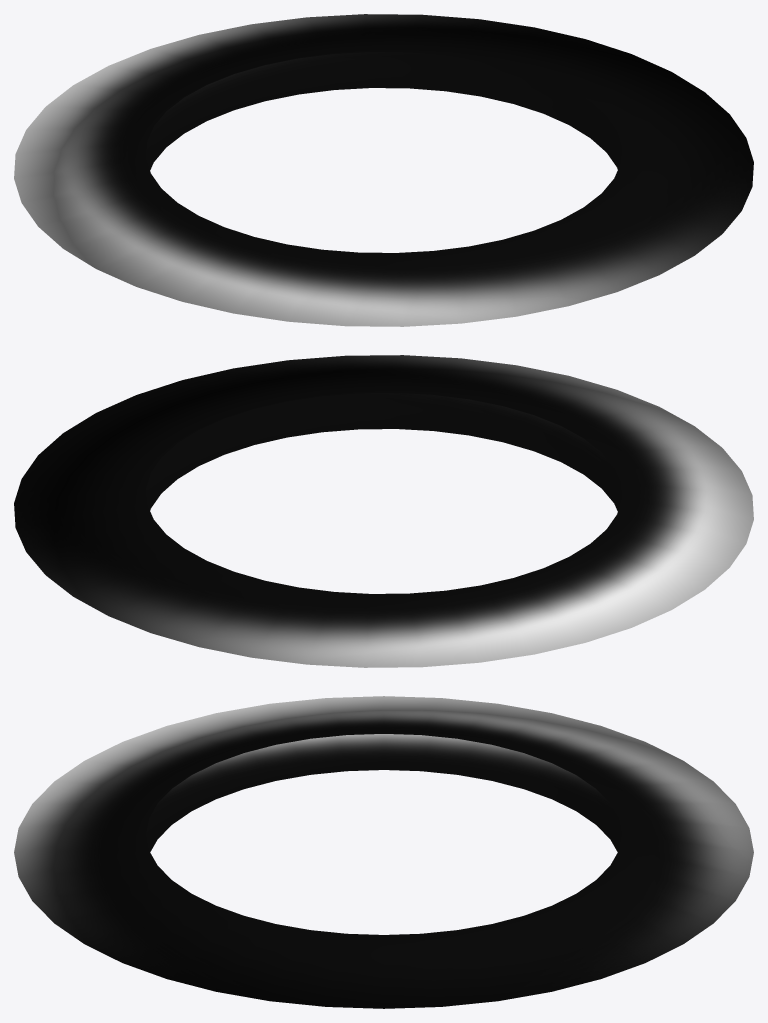
The model's file is Cylin_Double.fbx.
The picture shows the model from 3 angles, top to bottom: view 1: azimuth 30°, elevation 25°; view 2: azimuth 150°, elevation 25°; view 3: azimuth 270°, elevation 25°; orthographic projection.
Visible parts, largest first — view 1: Cylinder002; view 2: Cylinder002; view 3: Cylinder002.
Boxes of the visible parts, <box> form: Cylinder002: <box>14,14,753,326</box>; Cylinder002: <box>14,355,753,667</box>; Cylinder002: <box>14,696,753,1008</box>.
Bounding box in the file's own units: 7.81 × 0.4208 × 7.81.
1 material, 1 textured.
